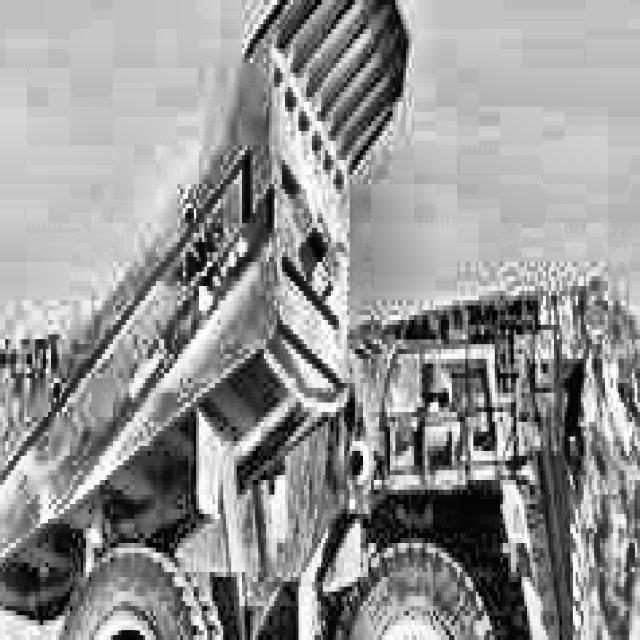dump_truck: (0, 0, 592, 640)
